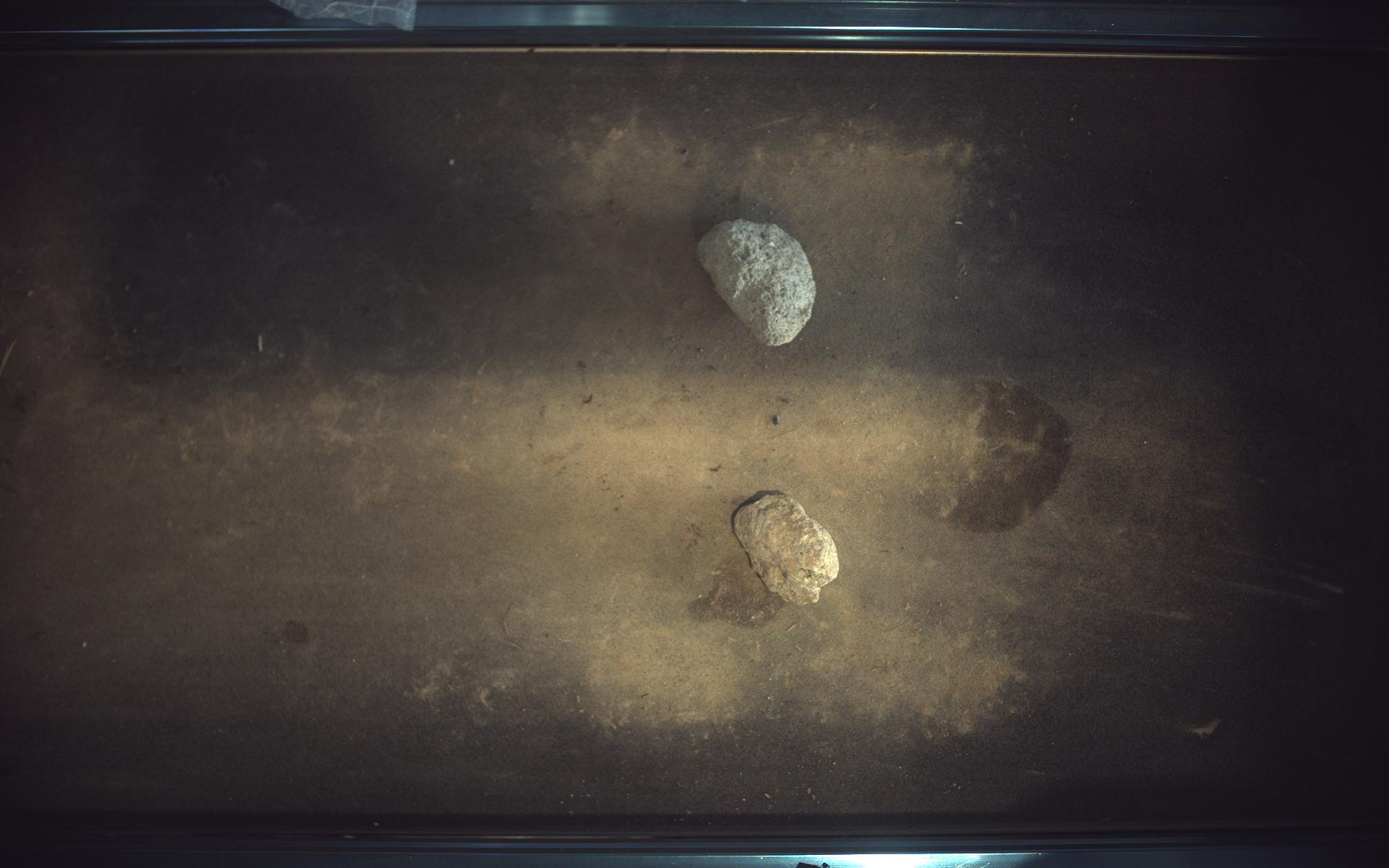stone: (700, 218, 817, 346), (734, 491, 841, 606)
